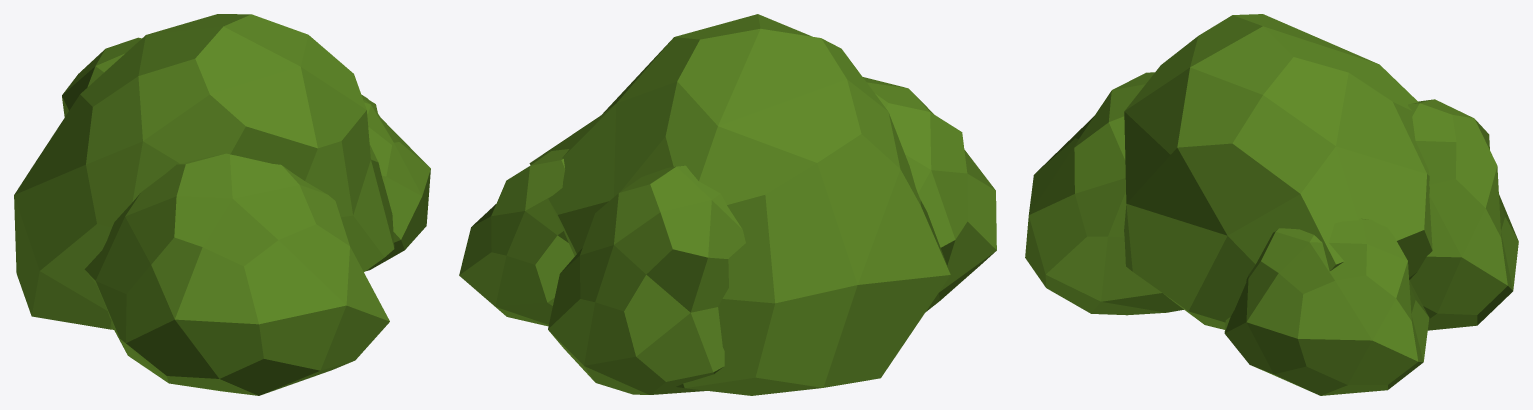
The model's file is Bush.fbx.
3 renders of one model, left to right at view 1: azimuth 30°, elevation 25°; view 2: azimuth 150°, elevation 25°; view 3: azimuth 270°, elevation 25°, orthographic. The views are drawn at different scales.
Parts seen in each view (by area): view 1: Bush; view 2: Bush; view 3: Bush.
Boxes of the visible parts, <box> form: Bush: <box>14,14,430,395</box>; Bush: <box>459,14,996,395</box>; Bush: <box>1025,14,1518,395</box>.
Size of the model in its own units: 2.88 by 2.02 by 3.03.
